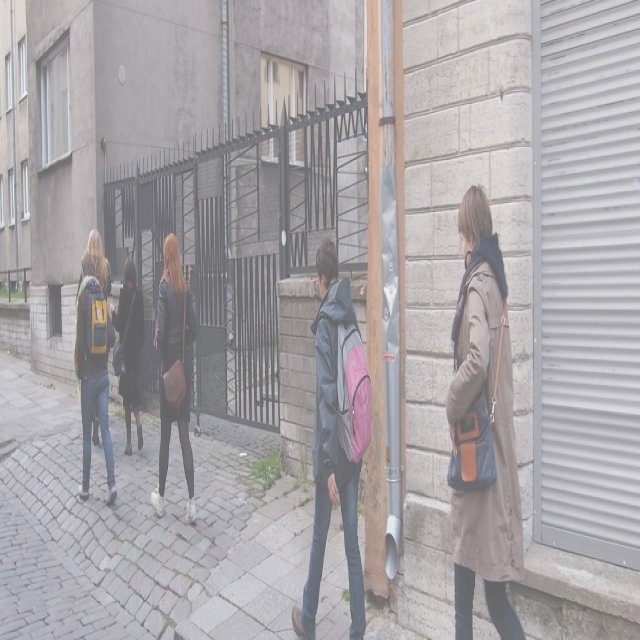pessoa: (444, 183, 528, 639), (288, 230, 376, 639), (150, 230, 198, 527), (72, 246, 119, 510), (74, 226, 113, 449), (109, 254, 145, 456)
